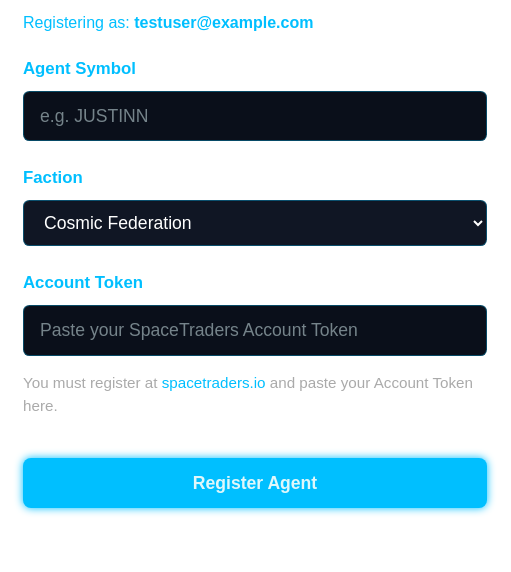
Scenario: RegisterAgentForm › submits form and shows success message
The width and height of the screenshot is (511, 572).
Type "AGENT" into the field labelled "Agent Symbol" at [255, 116], box x1=23 y1=91 x2=487 y2=141
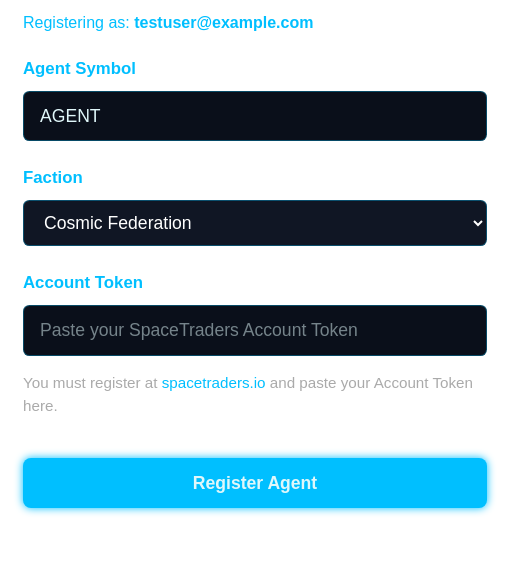
Type "token" into the field labelled "Account Token" at [255, 331], box x1=23 y1=305 x2=487 y2=356
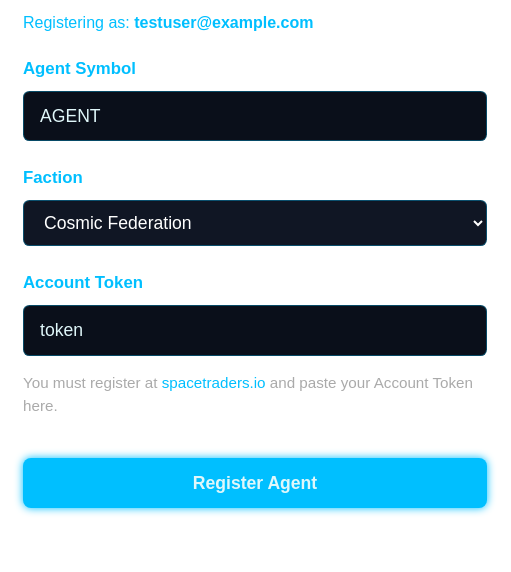
Click the button "Register Agent" at [255, 483], box x1=23 y1=458 x2=487 y2=508
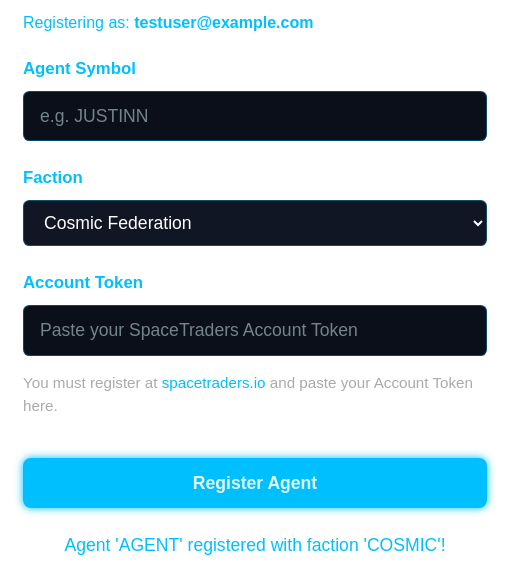
Check: the text "Agent 'AGENT' registered with faction 'COSMIC'!" is shown, box x1=64 y1=535 x2=446 y2=555
Check: the field labelled "Agent Symbol" is empty, box x1=23 y1=91 x2=487 y2=141
Check: the field labelled "Account Token" is empty, box x1=23 y1=305 x2=487 y2=356
